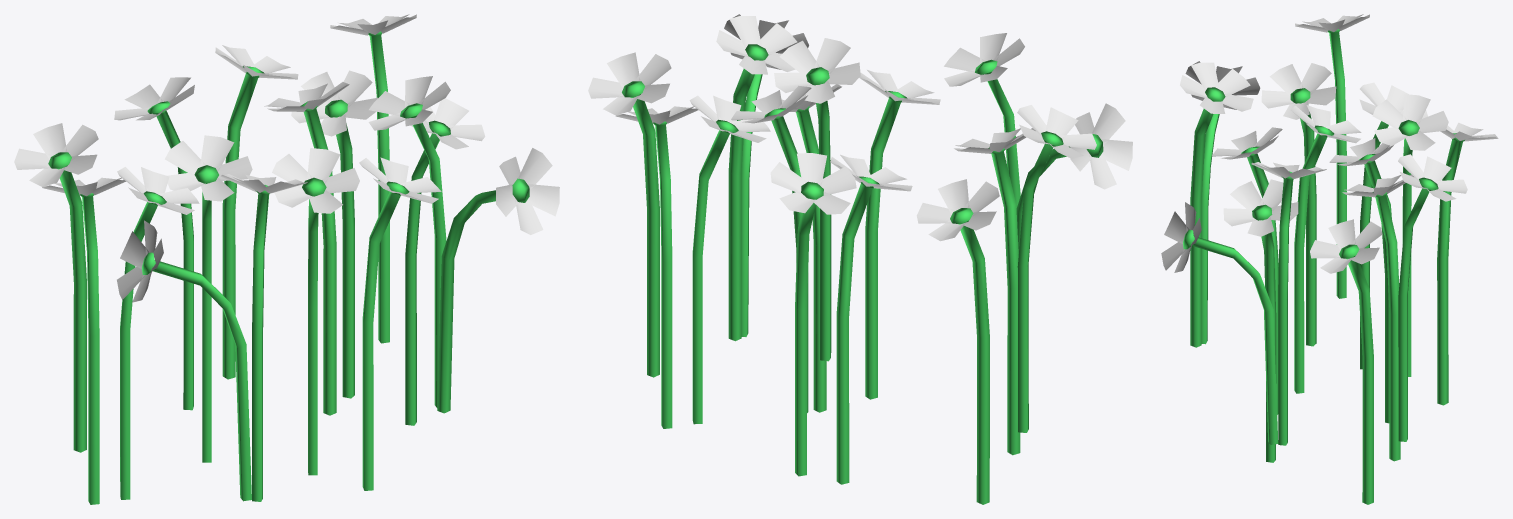
The model's file is Flower_A_GRP.fbx.
3 views of the same model, side by side, from view 1: azimuth 30°, elevation 25°; view 2: azimuth 150°, elevation 25°; view 3: azimuth 270°, elevation 25° (orthographic). The views are drawn at different scales.
Parts seen in each view (by area): view 1: Flower_A_GRP_LOD0; view 2: Flower_A_GRP_LOD0; view 3: Flower_A_GRP_LOD0.
Part boxes in pixels (<box>): Flower_A_GRP_LOD0: <box>14,14,559,504</box>; Flower_A_GRP_LOD0: <box>588,14,1132,504</box>; Flower_A_GRP_LOD0: <box>1161,14,1498,504</box>.
Size of what is drawn, in the model's own units: 1.15 by 0.9284 by 0.8377.
